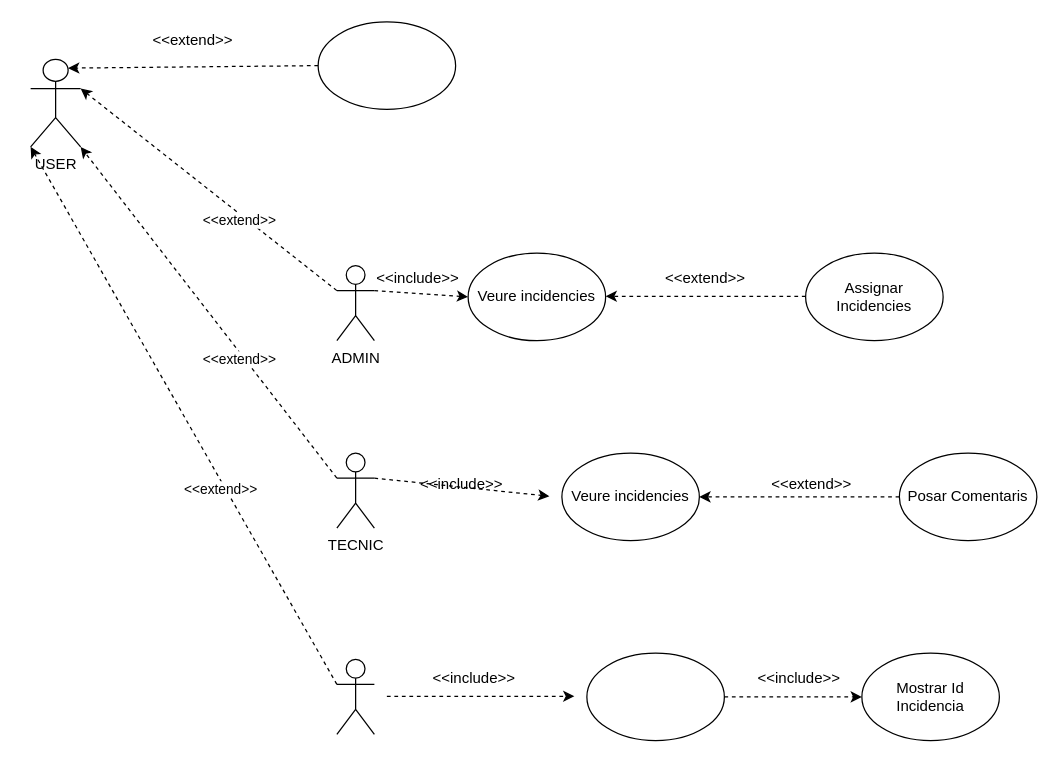
Image size: 1059x783. Some labels were removed from this diagram. The centre of each missing label's shape, as x and y in pixels:
"Buscar Incendia" belongs at [386,65].
"Crear Incidencia" belongs at [655,696].
"PROFESOR" belongs at [355,696].
